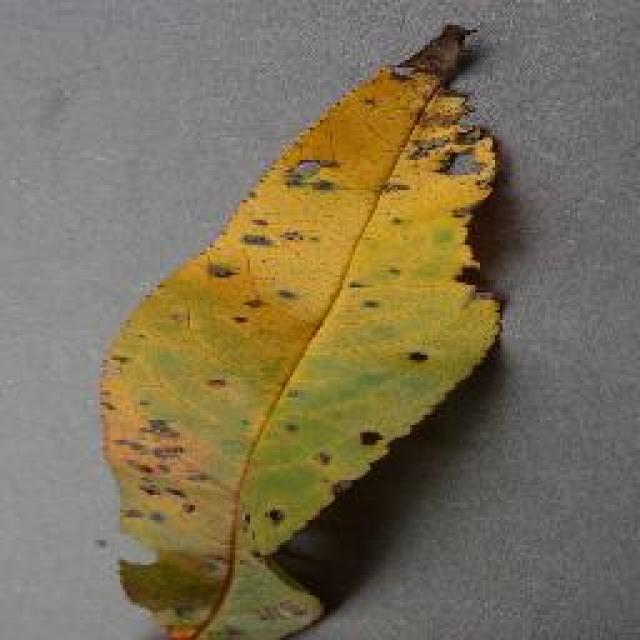Peach_Bacterial_Spot: (128, 126, 428, 542)
